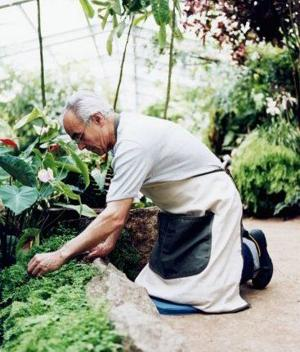person: (27, 91, 275, 315)
